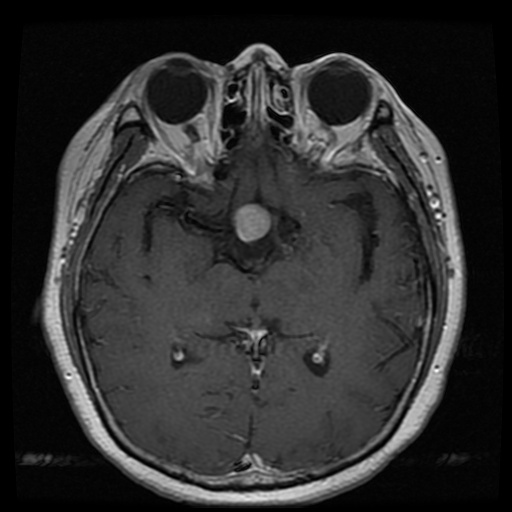pituitary: (233, 202, 271, 243)
